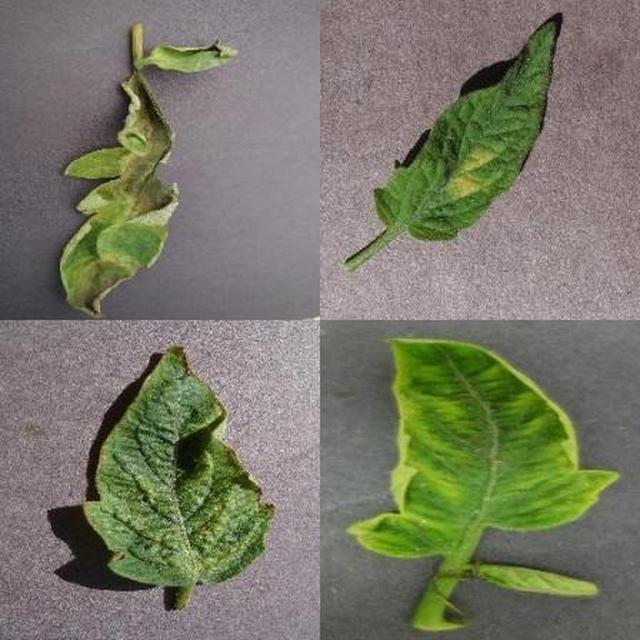Late Blight Leaf: (122, 46, 640, 640)
